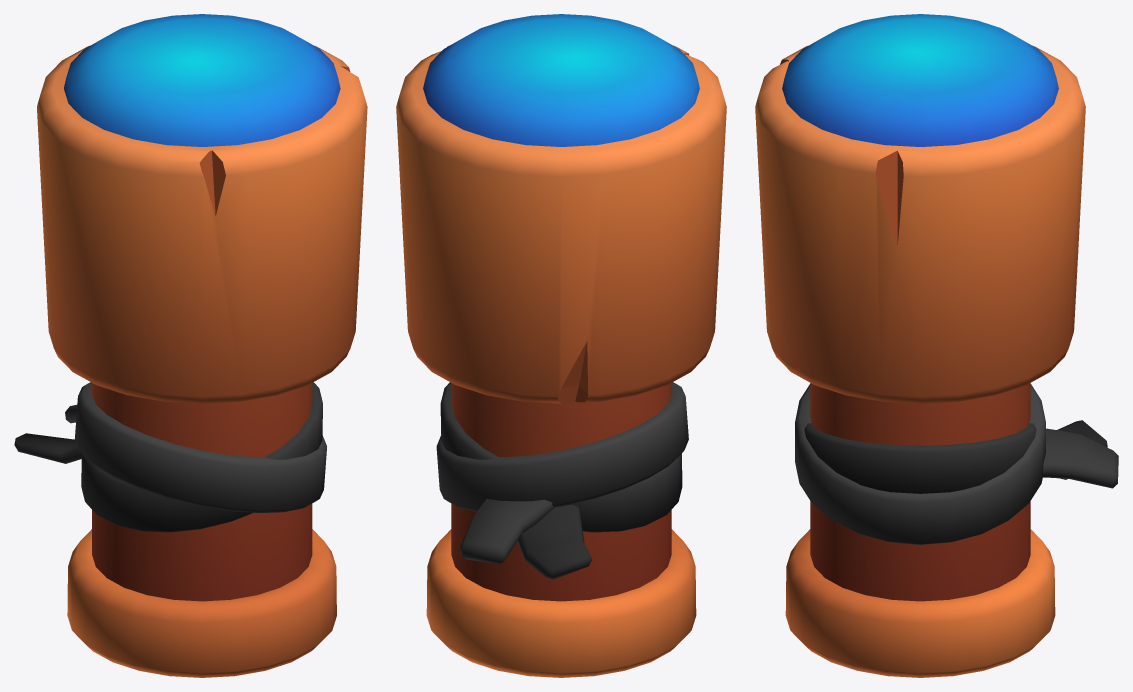
File: Telescope_V2_0.fbx
3 renders of one model, left to right at view 1: azimuth 30°, elevation 25°; view 2: azimuth 150°, elevation 25°; view 3: azimuth 270°, elevation 25°, orthographic.
Visible parts, largest first — view 1: Telescope_V2_0; view 2: Telescope_V2_0; view 3: Telescope_V2_0.
Part boxes in pixels (x1,y1,x2,y2): Telescope_V2_0: [14, 14, 367, 677]; Telescope_V2_0: [396, 14, 726, 677]; Telescope_V2_0: [755, 14, 1118, 677].
Bounding box in the file's own units: 0.2505 × 0.4897 × 0.2754.
